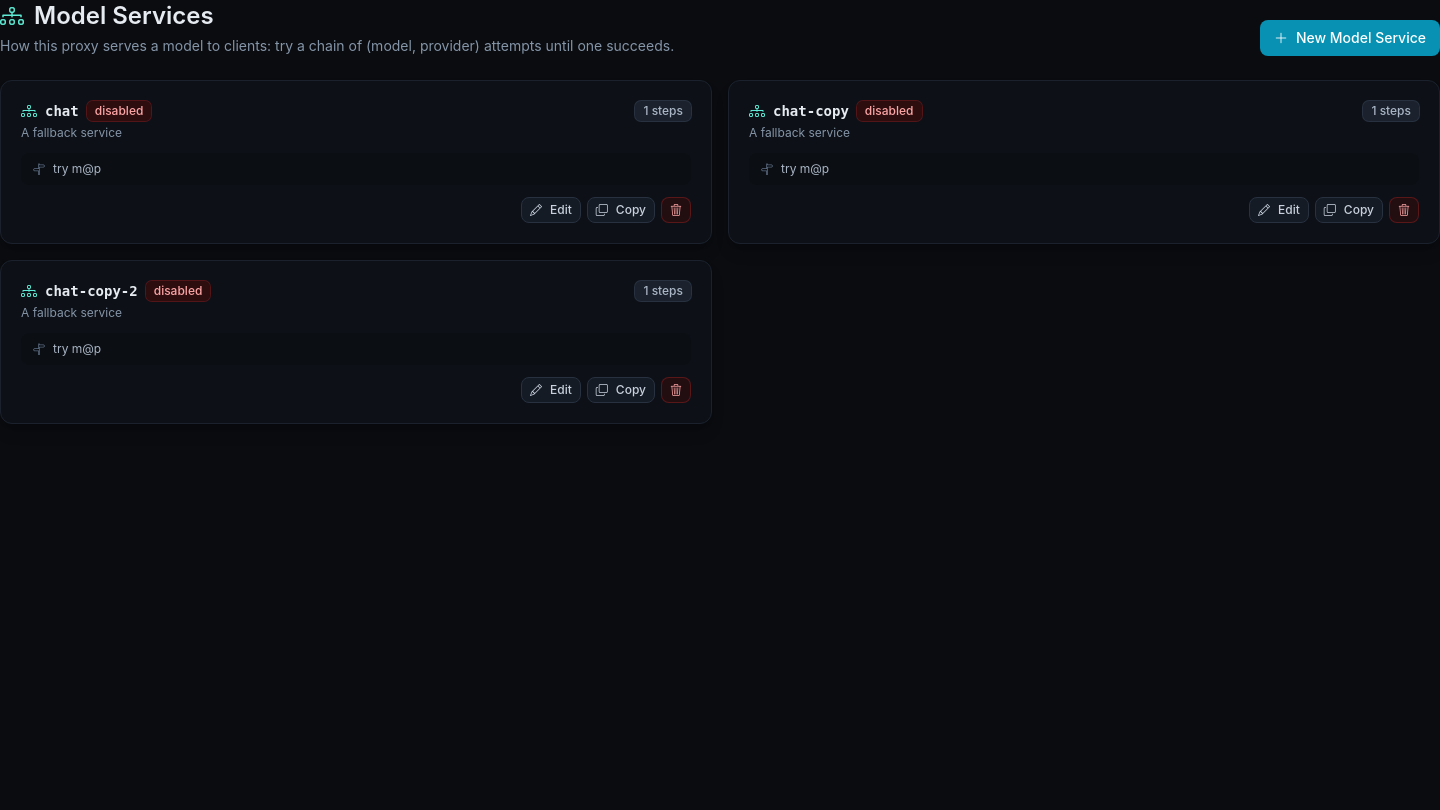
Scenario: Model Service and Micro Agent copies › chooses a free copy name and rejects duplicate names without a request
Step 1. Click the 1st button "Copy" → (621, 210), box [587,197,655,223]
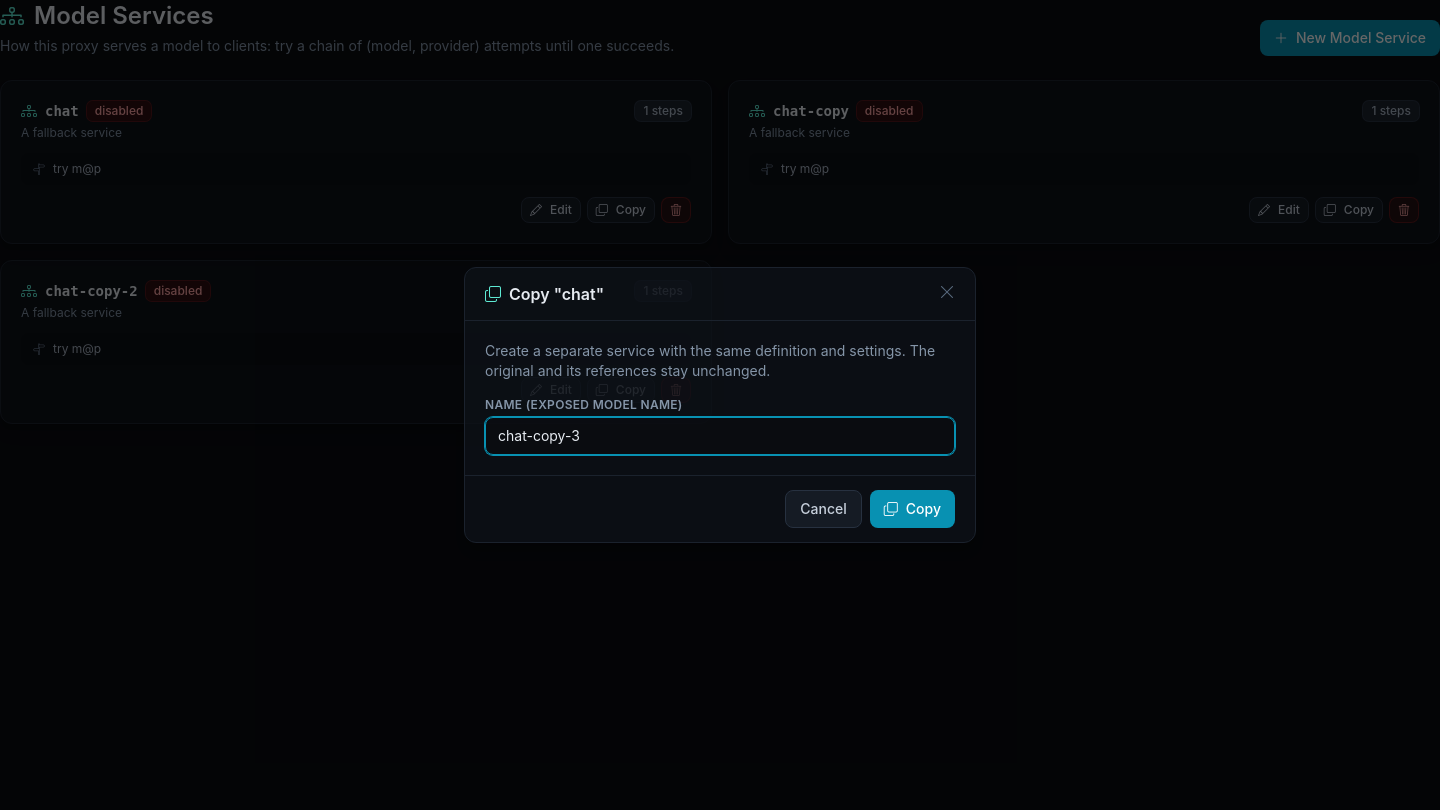
Now the field labelled "Name (exposed model name)" holds "chat-copy-3"
Step 2. Replace the text in the field labelled "Name (exposed model name)" with "chat" → (720, 436), box [485,417,955,455]
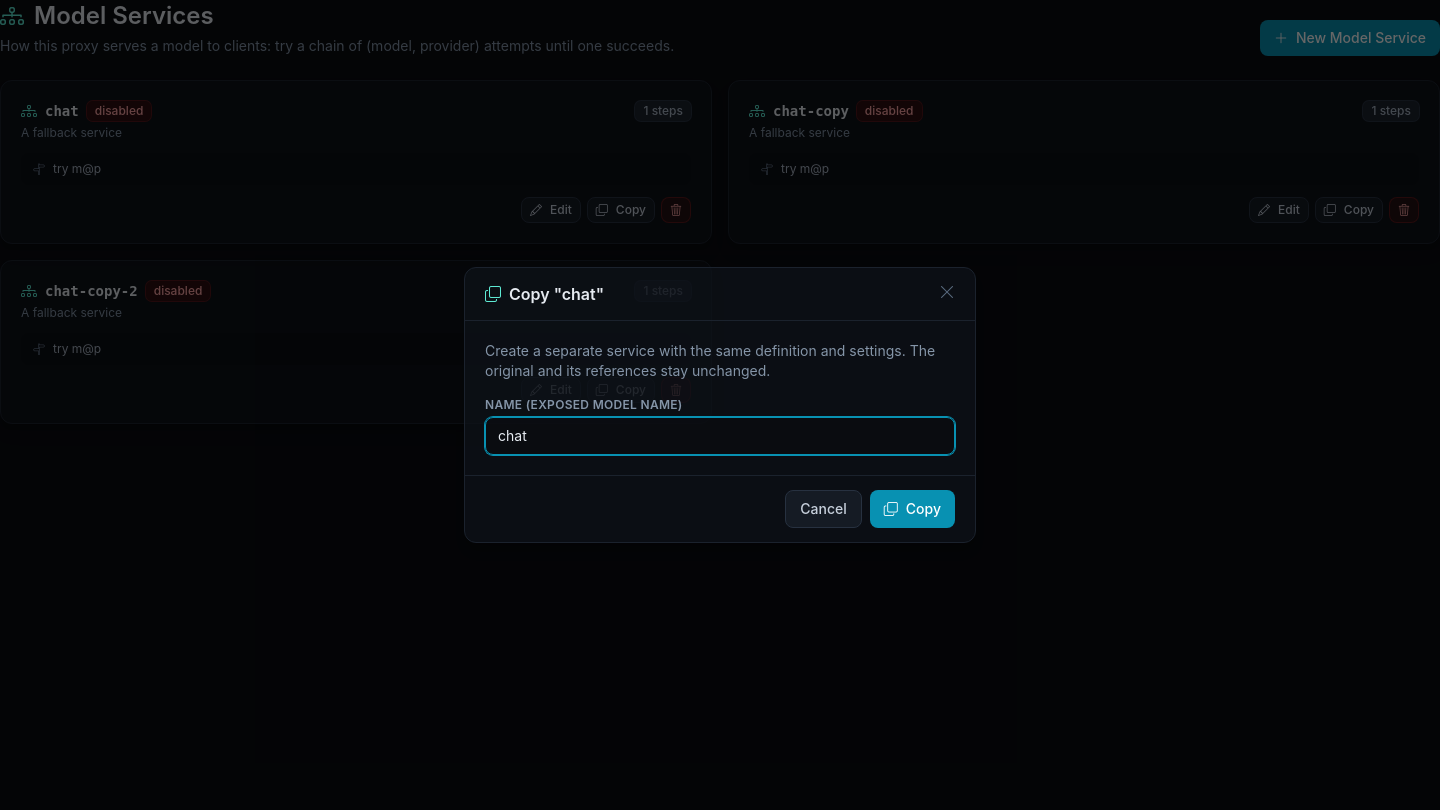
Step 3. Click the button "Copy" → (912, 509), box [870,490,955,528]
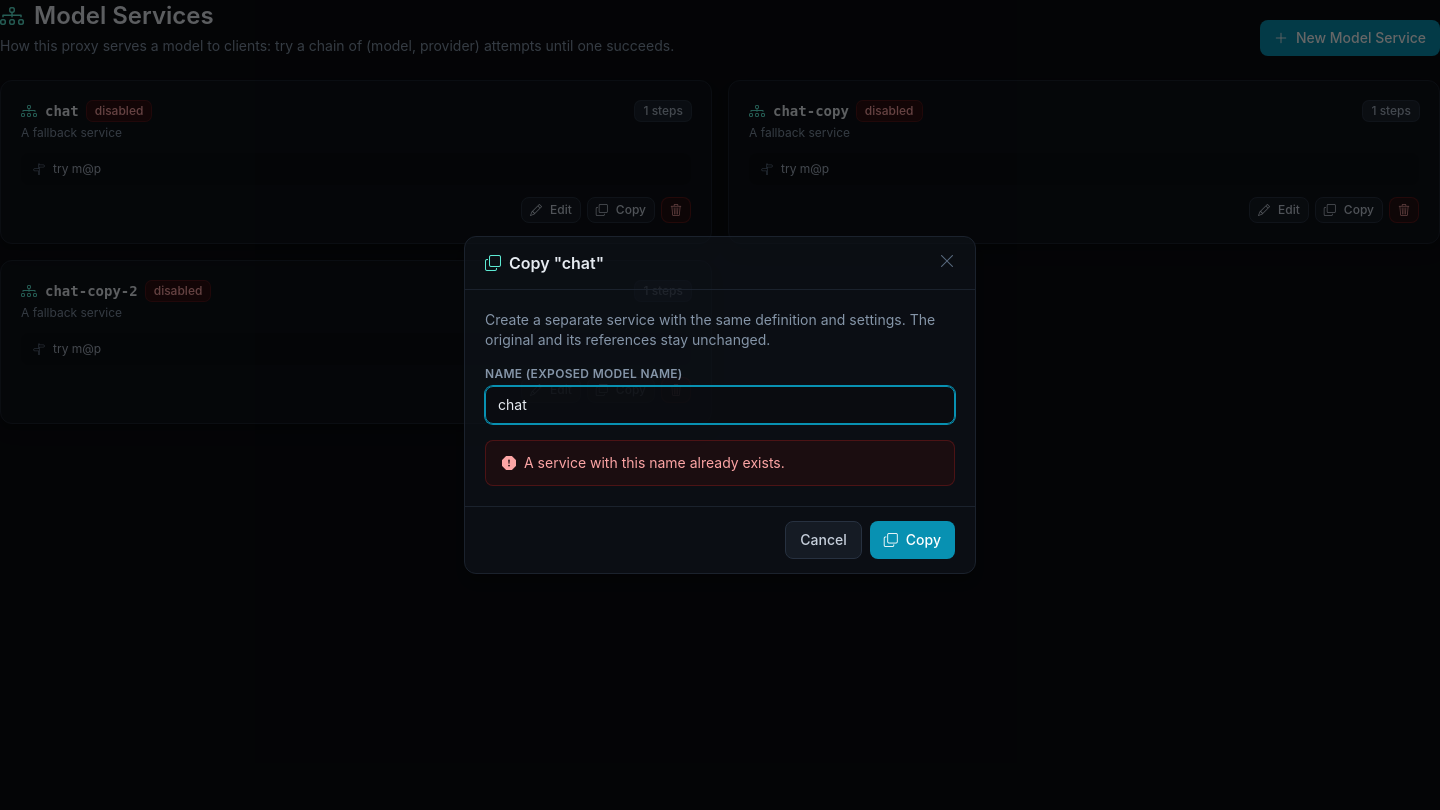
Now the text "A service with this name already exists." is shown, box [485,440,955,486]
